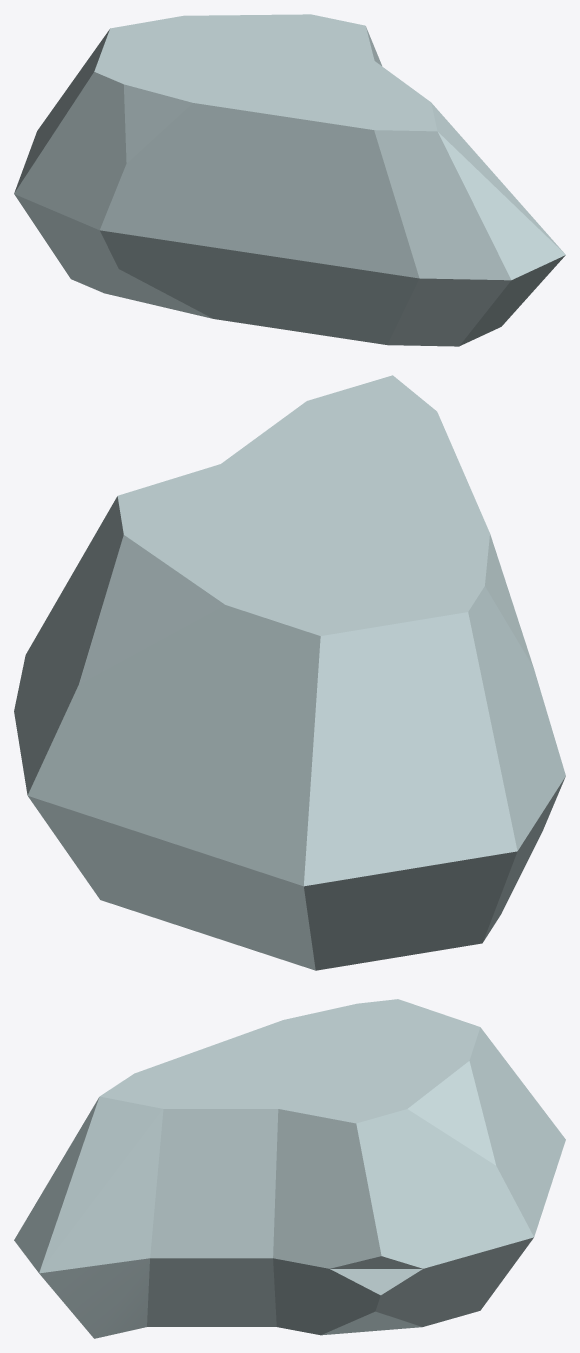
The model's file is stone_largeB.glb.
3 views of the same model, one above another, from view 1: azimuth 30°, elevation 25°; view 2: azimuth 150°, elevation 25°; view 3: azimuth 270°, elevation 25° (orthographic). The views are drawn at different scales.
Visible parts, largest first — view 1: stone_largeB; view 2: stone_largeB; view 3: stone_largeB.
Part boxes in pixels (<box>): stone_largeB: <box>14,14,565,346</box>; stone_largeB: <box>14,375,565,970</box>; stone_largeB: <box>14,999,565,1338</box>.
Size of the model in its own units: 0.7667 by 0.4303 by 1.02.
